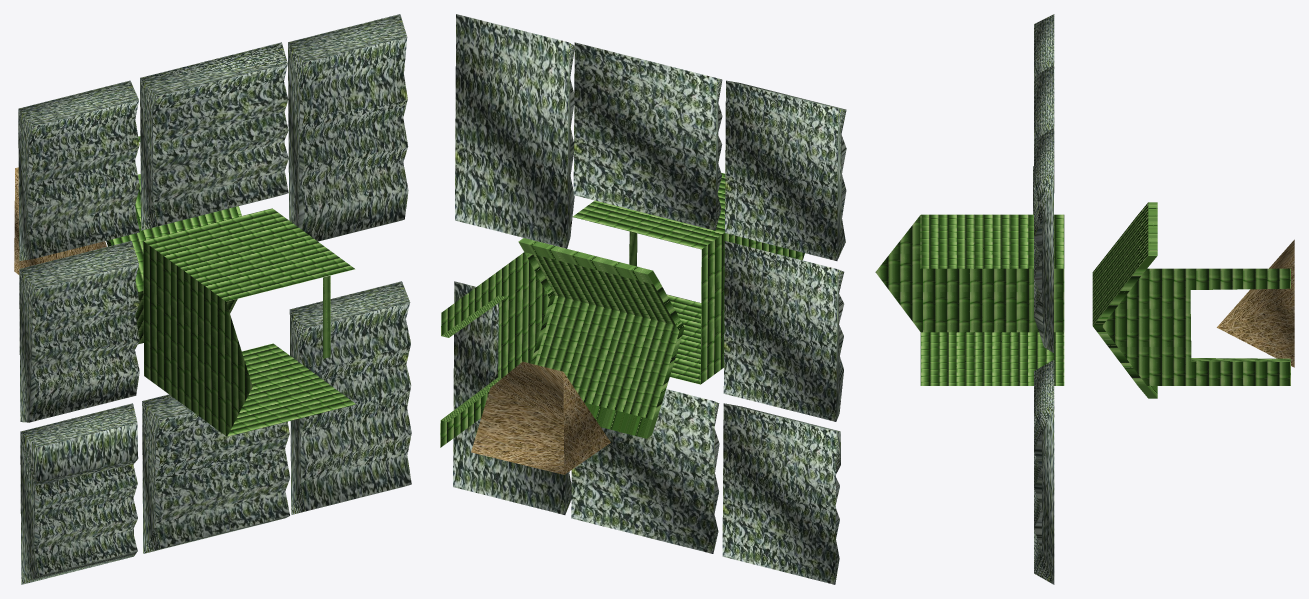
The model's file is farm_000056.obj.
3 renders of one model, left to right at view 1: azimuth 30°, elevation 25°; view 2: azimuth 150°, elevation 25°; view 3: azimuth 270°, elevation 25°, orthographic. The views are drawn at different scales.
Visible parts, largest first — view 1: crops.000_Cube.040, wall.000_Cube.043, roof.000_Cube.042, hay.000_Cone.010; view 2: crops.000_Cube.040, roof.000_Cube.042, hay.000_Cone.010, wall.000_Cube.043, front.000_Cube.041; view 3: wall.000_Cube.043, front.000_Cube.041, crops.000_Cube.040, roof.000_Cube.042, hay.000_Cone.010.
Part boxes in pixels (x1,y1,x2,y2): crops.000_Cube.040: [18, 14, 411, 584]; wall.000_Cube.043: [143, 208, 355, 436]; roof.000_Cube.042: [106, 174, 241, 344]; hay.000_Cone.010: [14, 167, 106, 274]; crops.000_Cube.040: [453, 14, 846, 584]; roof.000_Cube.042: [518, 238, 684, 438]; hay.000_Cone.010: [471, 361, 610, 474]; wall.000_Cube.043: [572, 173, 804, 384]; front.000_Cube.041: [440, 252, 549, 447]; wall.000_Cube.043: [875, 214, 1064, 385]; front.000_Cube.041: [1102, 268, 1290, 385]; crops.000_Cube.040: [1033, 14, 1054, 584]; roof.000_Cube.042: [1092, 202, 1157, 398]; hay.000_Cone.010: [1217, 239, 1294, 367].
Size of the model in its own units: 8.41 by 10 by 9.16.
